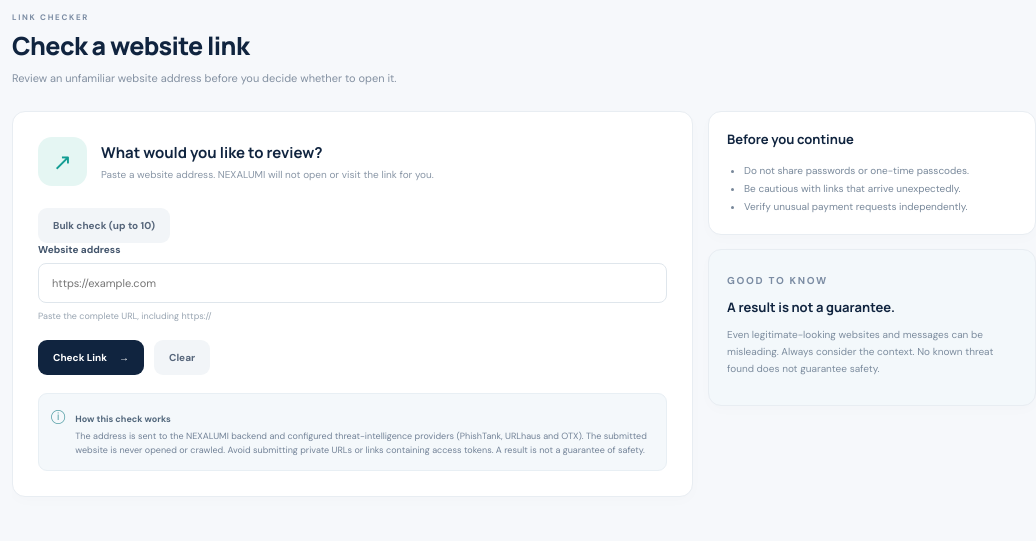
Scenario: LinkChecker page › validates empty input without calling the API
Click the button "Check Link →" at (91, 358), box top-left (38, 340), bottom-right (144, 375)
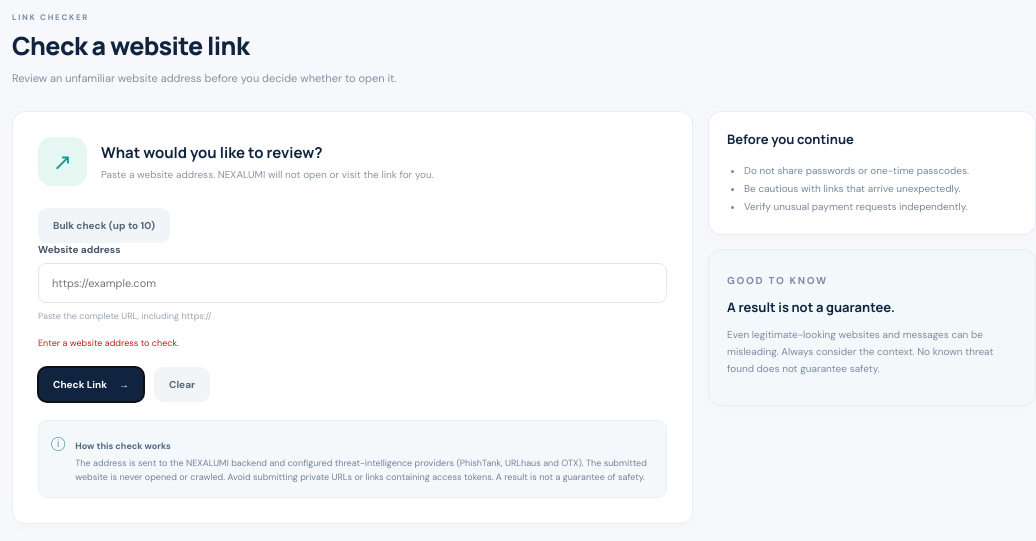
Check: the message shows "Enter a website address", box top-left (38, 337), bottom-right (179, 349)
